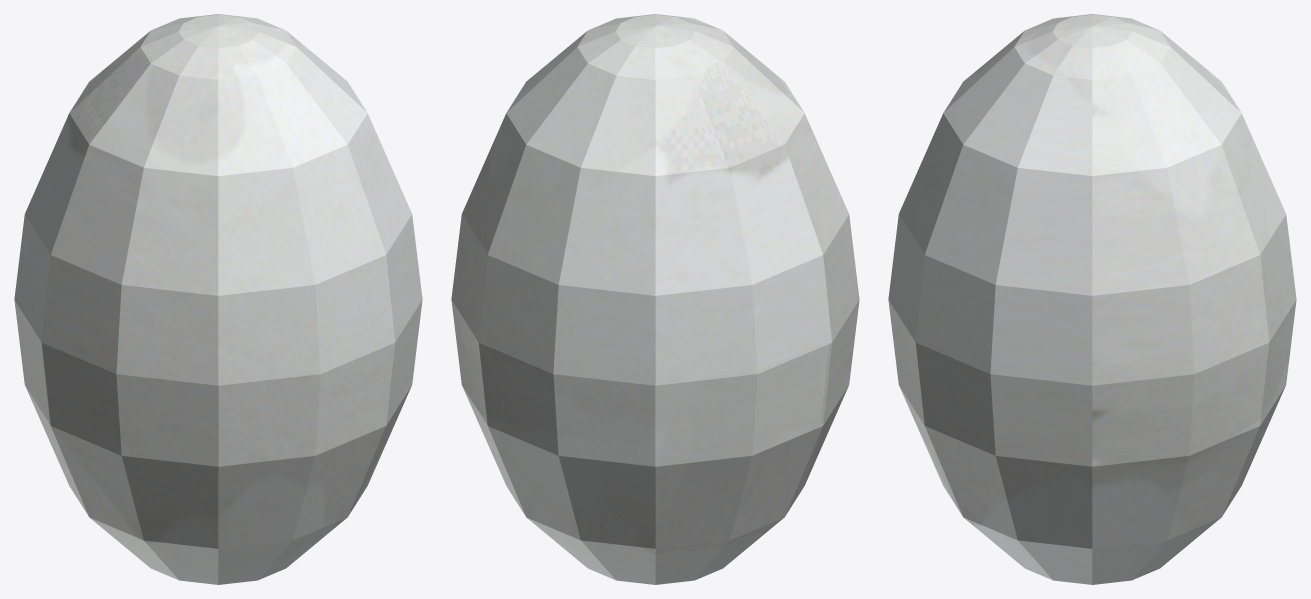
Rendered from egg.glb.
The picture shows the model from 3 angles, left to right: view 1: azimuth 30°, elevation 25°; view 2: azimuth 150°, elevation 25°; view 3: azimuth 270°, elevation 25°; orthographic projection.
Visible parts, largest first — view 1: EGG; view 2: EGG; view 3: EGG.
Boxes of the visible parts, x1,y1,x2,y2 form: EGG: [14, 14, 422, 584]; EGG: [451, 14, 859, 584]; EGG: [888, 14, 1296, 584].
Size of the model in its own units: 3.38 by 5 by 3.38.
Materials: 1 (1 with a texture image).
